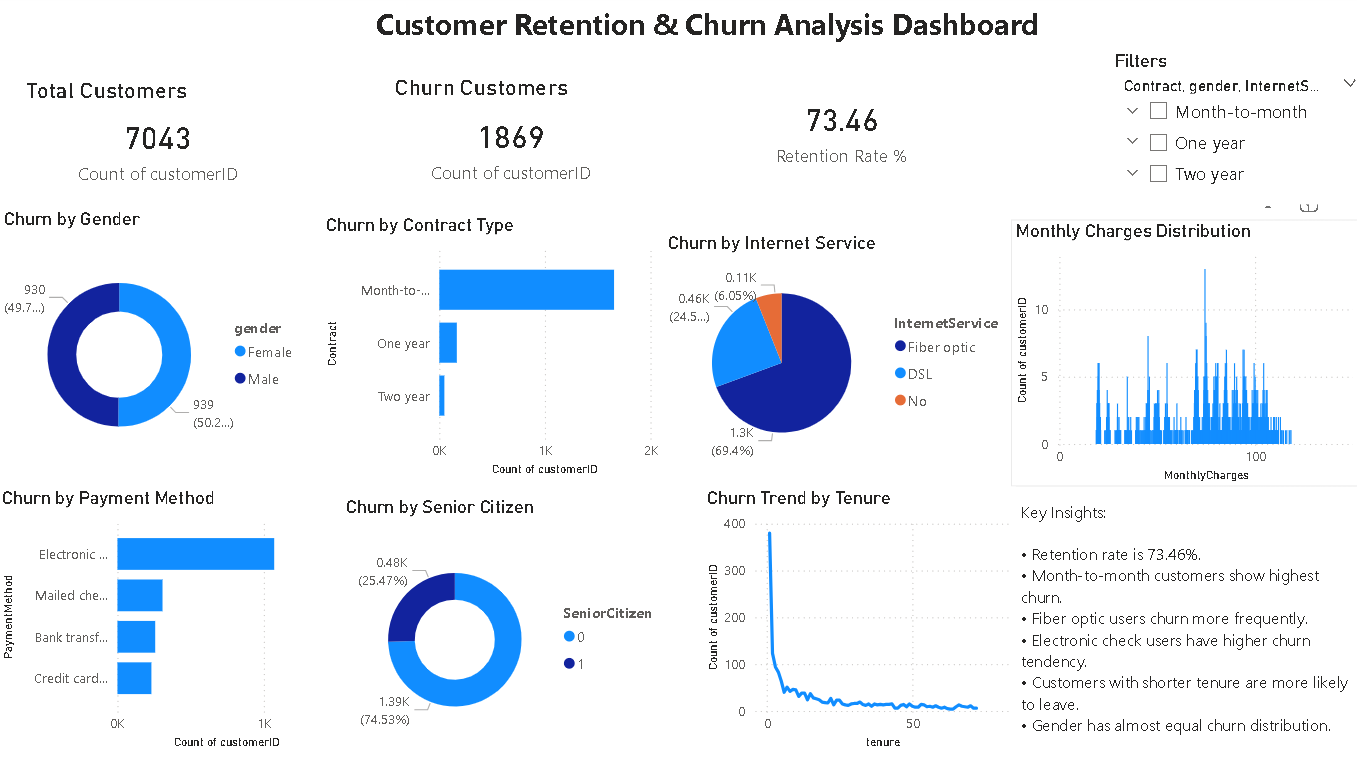

What the dashboard file says about the page in this screenshot:
{"tool":"powerbi","page":{"name":"Page 1","canvas":[1280,720],"ordinal":0},"visuals":[{"type":"card","title":"Total Customers","fields":{"Values":["Count(WA_Fn-UseC_-Telco-Customer-Churn.customerID)"]},"box":[22.4,78.3,254.6,107.7],"z":0},{"type":"card","title":"Churn Customers","fields":{"Values":["Count(WA_Fn-UseC_-Telco-Customer-Churn.customerID)"]},"box":[366.5,75.5,225.2,110.5],"z":1000},{"type":"card","fields":{"Values":["WA_Fn-UseC_-Telco-Customer-Churn.Retention Rate %"]},"box":[675.7,75.5,223.8,102.1],"z":2000},{"type":"donutChart","title":"Churn by Gender","fields":{"Category":["WA_Fn-UseC_-Telco-Customer-Churn.gender"],"Y":["CountNonNull(WA_Fn-UseC_-Telco-Customer-Churn.customerID)"]},"box":[1.4,200.1,289.6,254.6],"z":3000},{"type":"clusteredBarChart","title":"Churn by Contract Type","fields":{"Category":["WA_Fn-UseC_-Telco-Customer-Churn.Contract"],"Y":["CountNonNull(WA_Fn-UseC_-Telco-Customer-Churn.customerID)"]},"box":[302.2,205.7,319,249],"z":3001},{"type":"pieChart","title":"Churn by Internet Service","fields":{"Category":["WA_Fn-UseC_-Telco-Customer-Churn.InternetService"],"Y":["CountNonNull(WA_Fn-UseC_-Telco-Customer-Churn.customerID)"]},"box":[621.2,222.4,324.6,225.2],"z":3002},{"type":"clusteredColumnChart","title":"Monthly Charges Distribution","fields":{"Category":["WA_Fn-UseC_-Telco-Customer-Churn.MonthlyCharges"],"Y":["CountNonNull(WA_Fn-UseC_-Telco-Customer-Churn.customerID)"]},"box":[945.7,211.2,334.4,249],"z":3003},{"type":"slicer","title":"Filters","fields":{"Values":["WA_Fn-UseC_-Telco-Customer-Churn.Contract","WA_Fn-UseC_-Telco-Customer-Churn.gender","WA_Fn-UseC_-Telco-Customer-Churn.InternetService"]},"box":[1037.4,53.7,243.2,143.7],"z":3005},{"type":"clusteredBarChart","title":"Churn by Payment Method","fields":{"Category":["WA_Fn-UseC_-Telco-Customer-Churn.PaymentMethod"],"Y":["CountNonNull(WA_Fn-UseC_-Telco-Customer-Churn.customerID)"]},"box":[0,460.3,328.8,249],"z":3006},{"type":"lineChart","title":"Churn Trend by Tenure","fields":{"Category":["WA_Fn-UseC_-Telco-Customer-Churn.tenure"],"Y":["CountNonNull(WA_Fn-UseC_-Telco-Customer-Churn.customerID)"]},"box":[657.5,460.3,292.4,249],"z":3008},{"type":"textbox","box":[949.9,468.7,330.2,249],"z":3009},{"type":"textbox","box":[348.6,6,653.3,47.8],"z":3011},{"type":"donutChart","title":"Churn by Senior Citizen","fields":{"Category":["WA_Fn-UseC_-Telco-Customer-Churn.SeniorCitizen"],"Y":["CountNonNull(WA_Fn-UseC_-Telco-Customer-Churn.customerID)"]},"box":[320.4,468.7,310.6,249],"z":3012}]}

Visuals, with their boxes in screenshot pixels (x1, y1, x2, y2), scaled from the page's 1280x720 canvas onto the 1357x763 screenshot:
"Total Customers" card: {"left": 24, "top": 83, "right": 294, "bottom": 197}
"Churn Customers" card: {"left": 389, "top": 80, "right": 627, "bottom": 197}
card - WA_Fn-UseC_-Telco-Customer-Churn.Retention Rate %: {"left": 716, "top": 80, "right": 954, "bottom": 188}
"Churn by Gender" donutChart: {"left": 1, "top": 212, "right": 309, "bottom": 482}
"Churn by Contract Type" clusteredBarChart: {"left": 320, "top": 218, "right": 659, "bottom": 482}
"Churn by Internet Service" pieChart: {"left": 659, "top": 236, "right": 1003, "bottom": 474}
"Monthly Charges Distribution" clusteredColumnChart: {"left": 1003, "top": 224, "right": 1356, "bottom": 488}
"Filters" slicer: {"left": 1100, "top": 57, "right": 1356, "bottom": 209}
"Churn by Payment Method" clusteredBarChart: {"left": 0, "top": 488, "right": 349, "bottom": 752}
"Churn Trend by Tenure" lineChart: {"left": 697, "top": 488, "right": 1007, "bottom": 752}
textbox: {"left": 1007, "top": 497, "right": 1356, "bottom": 761}
textbox: {"left": 370, "top": 6, "right": 1062, "bottom": 57}
"Churn by Senior Citizen" donutChart: {"left": 340, "top": 497, "right": 669, "bottom": 761}
